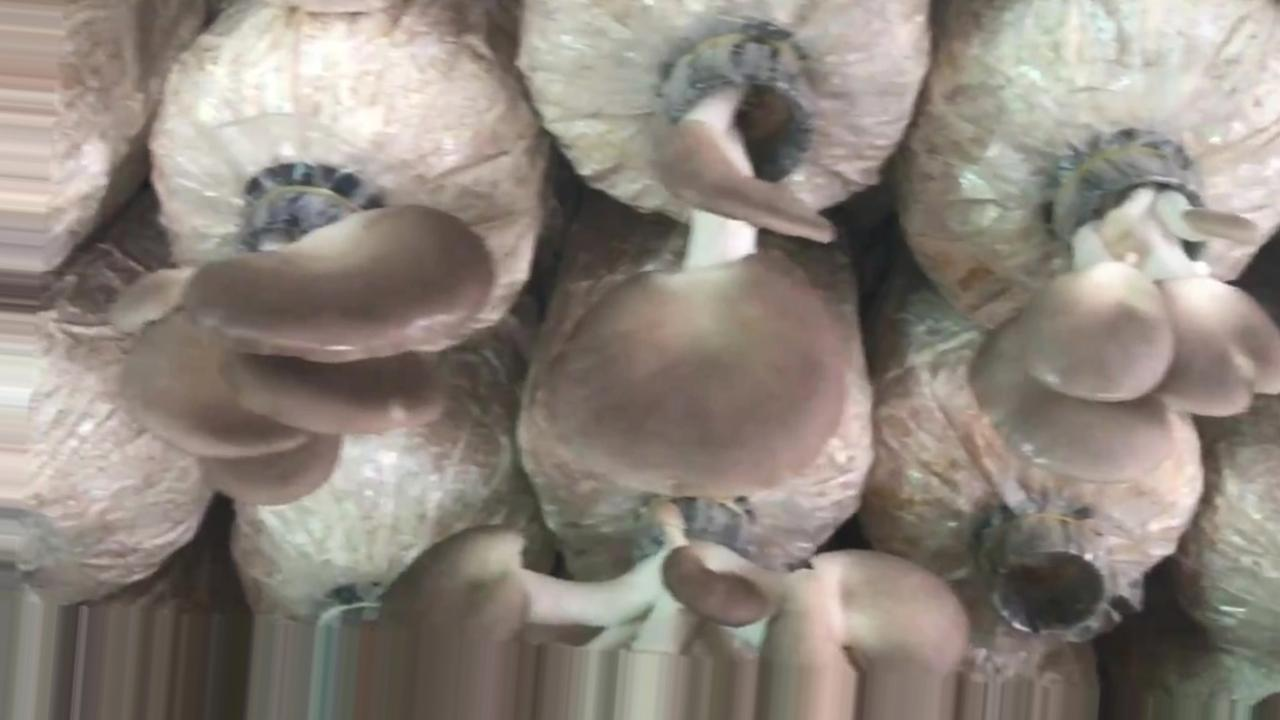nam: (552, 27, 856, 500), (105, 170, 500, 510), (375, 495, 975, 692), (966, 131, 1278, 487)
